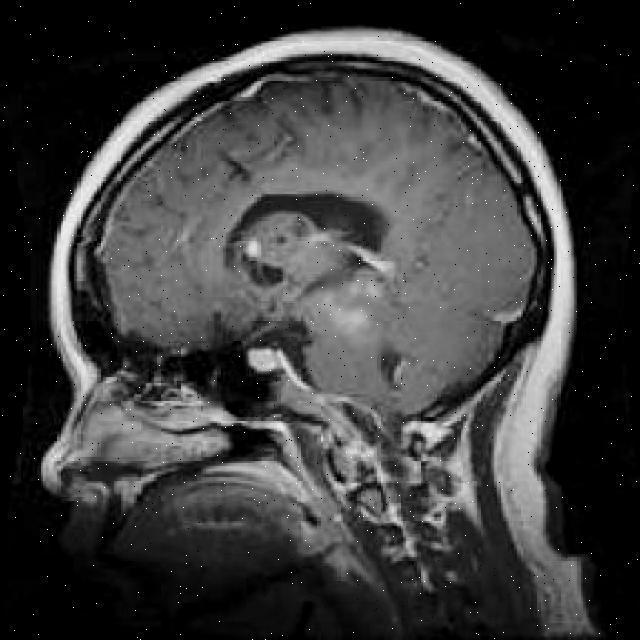MCI: (231, 220, 380, 292)
